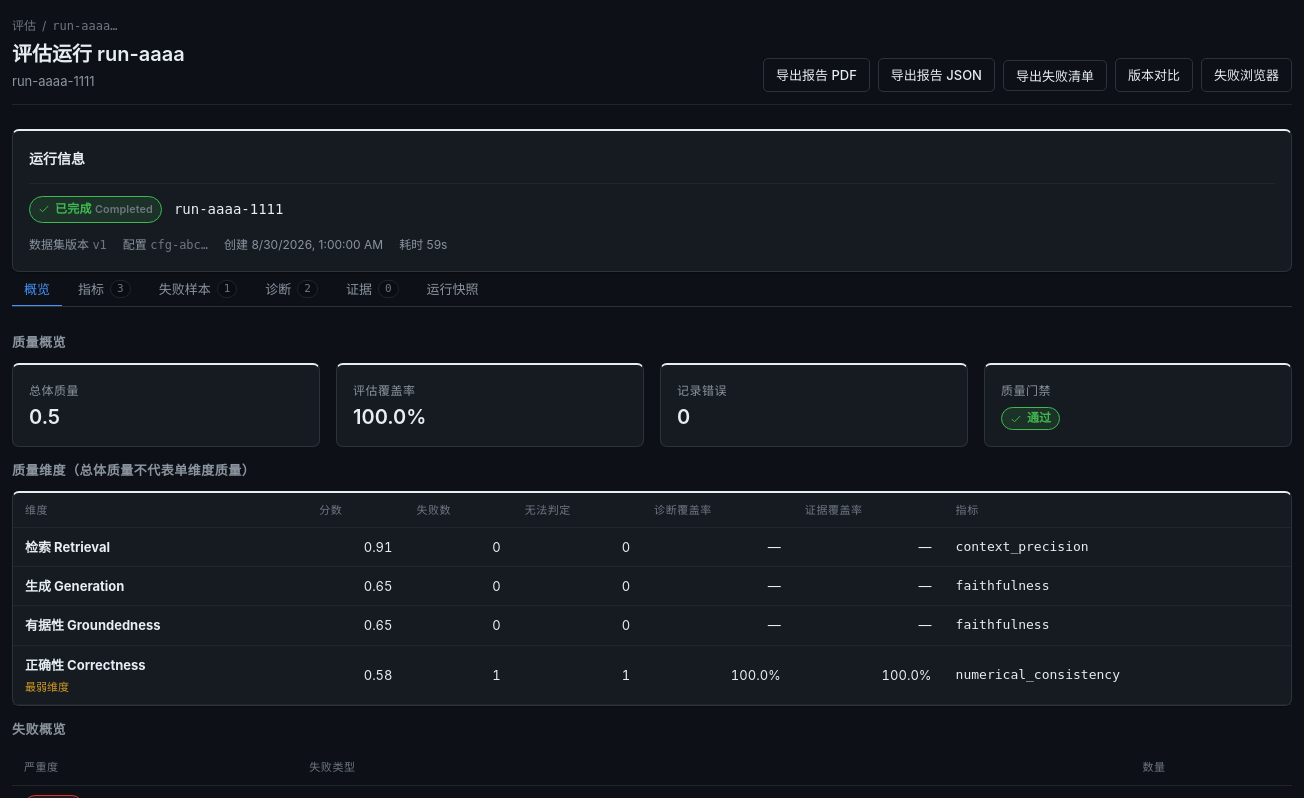
Evaluation detail › 12. secrets are never rendered
Check: the heading "质量概览" is shown, box x1=12 y1=335 x2=66 y2=351
Click the tab with test id "tab-configuration" at [453, 290], box x1=415 y1=272 x2=491 y2=307
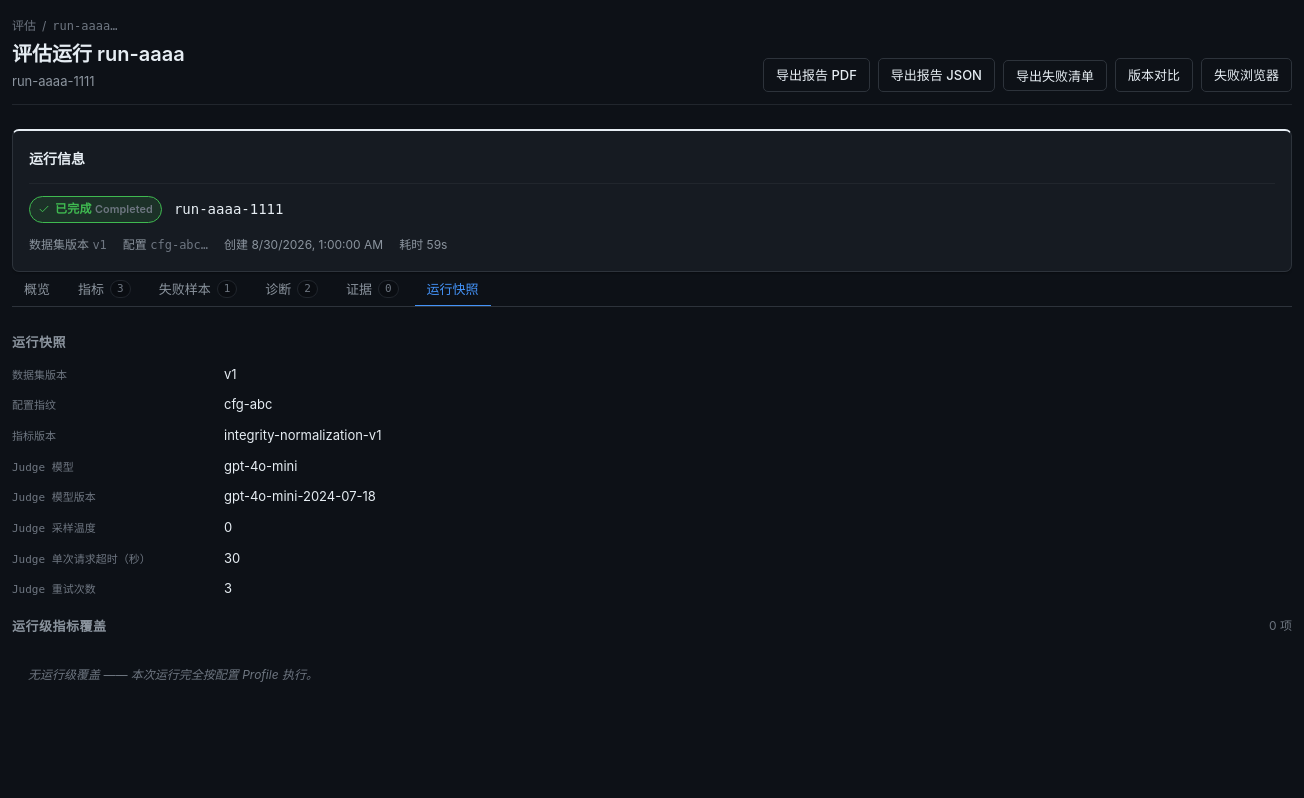
Check: the heading "运行快照" is shown, box x1=12 y1=335 x2=66 y2=351
Check: the text "Judge 模型" is shown, box x1=12 y1=461 x2=74 y2=474
Check: the text "gpt-4o-mini" is shown, box x1=224 y1=455 x2=298 y2=477
